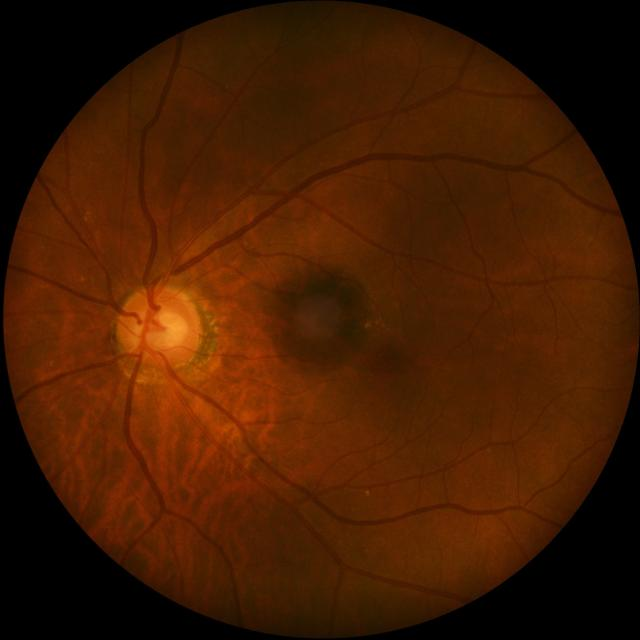OC: (137, 308, 186, 352)
OD: (116, 284, 202, 370)
